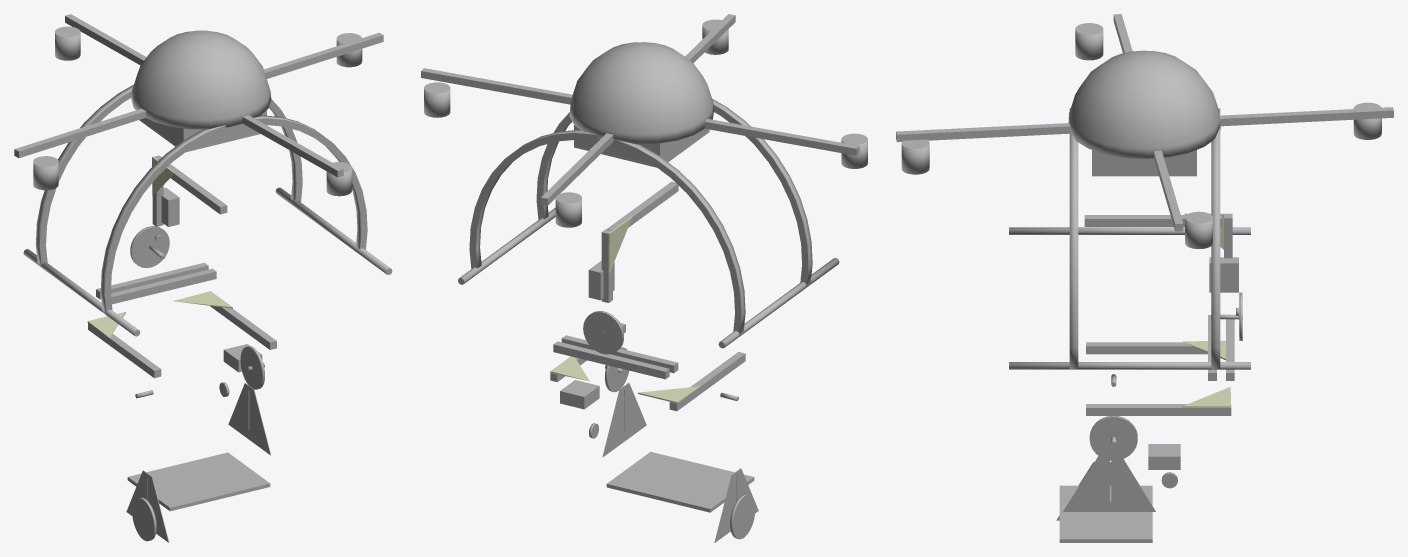
Rendered from QuadXL-noCamera6.DAE.
The picture shows the model from 3 angles, left to right: view 1: azimuth 30°, elevation 25°; view 2: azimuth 150°, elevation 25°; view 3: azimuth 270°, elevation 25°; orthographic projection. The views are drawn at different scales.
Parts seen in each view (by area): view 1: Quadro_Bulle, Box007, Quadro_TrainAvant, Quadro_BrasLateral, Quadro_TrainArriere, Box008, Box003, Quadro_brasLongitudinalAvant, Cylinder002, Quadro_BlocBatterie, Quadro_TrainGche, Quadro_TrainDte (+14 smaller); view 2: Quadro_Bulle, Quadro_TrainArriere, Box007, Quadro_BrasLateral, Quadro_TrainAvant, Box008, Box004, Cylinder002, Quadro_BlocBatterie, Quadro_TrainDte, Quadro_brasLongitudinalArriere, Box010 (+15 smaller); view 3: Quadro_Bulle, Box007, Box008, Quadro_TrainAvant, Quadro_TrainArriere, Quadro_brasLongitudinalArriere, Quadro_brasLongitudinalAvant, Quadro_BlocBatterie, Quadro_TrainGche, Cylinder005, Box005, Box006 (+9 smaller).
Part boxes in pixels (x1,y1,x2,y2): Quadro_Bulle: (131,30,271,129); Box007: (127,452,270,511); Quadro_TrainAvant: (100,115,367,314); Quadro_BrasLateral: (14,32,383,157); Quadro_TrainArriere: (35,84,302,267); Box008: (228,383,270,455); Box003: (111,268,216,304); Quadro_brasLongitudinalAvant: (242,115,343,177); Cylinder002: (130,226,169,267); Quadro_BlocBatterie: (140,110,266,150); Quadro_TrainGche: (275,187,392,274); Quadro_TrainDte: (23,249,140,336); Quadro_Bulle: (569,42,713,144); Quadro_TrainArriere: (469,130,745,336); Box007: (606,451,754,512); Quadro_BrasLateral: (421,68,859,155); Quadro_TrainAvant: (536,99,812,287); Box008: (602,382,646,457); Box004: (553,341,669,379); Cylinder002: (583,311,623,354); Quadro_BlocBatterie: (574,125,709,165); Quadro_TrainDte: (718,258,839,348); Quadro_brasLongitudinalArriere: (541,133,613,205); Box010: (714,468,758,542); Quadro_Bulle: (1068,50,1220,158); Box007: (1059,485,1152,542); Box008: (1063,456,1155,511); Quadro_TrainAvant: (1069,108,1078,369); Quadro_TrainArriere: (1211,108,1220,369); Quadro_brasLongitudinalArriere: (1219,107,1393,126); Quadro_brasLongitudinalAvant: (896,123,1070,142); Quadro_BlocBatterie: (1092,150,1196,174); Quadro_TrainGche: (1009,362,1250,369); Cylinder005: (1089,416,1137,460); Box005: (1086,404,1231,415); Box006: (1086,342,1207,354).
Bounding box in the file's own units: 0.6165 × 0.617 × 0.7017.
